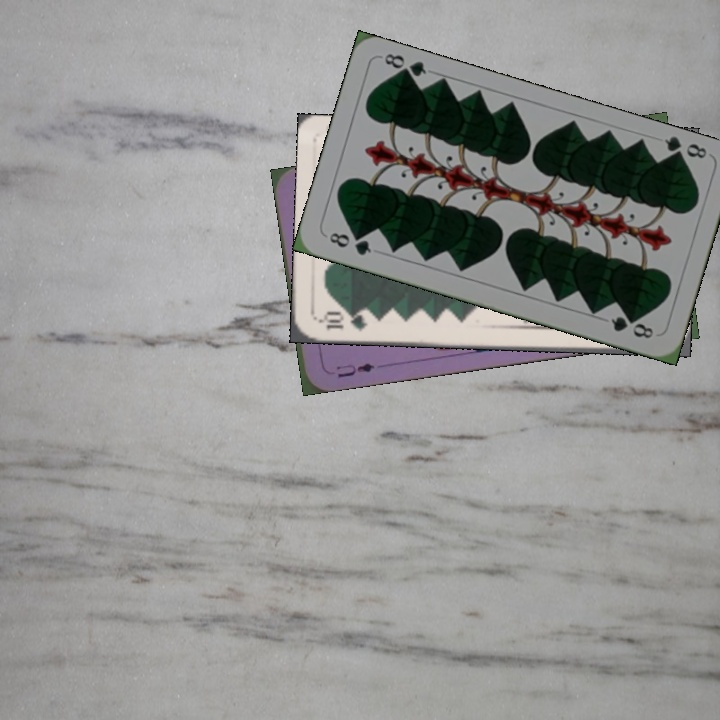EU: (332, 359, 377, 381)
G10: (315, 308, 371, 334)
G8: (660, 133, 710, 165), (325, 228, 375, 258)
